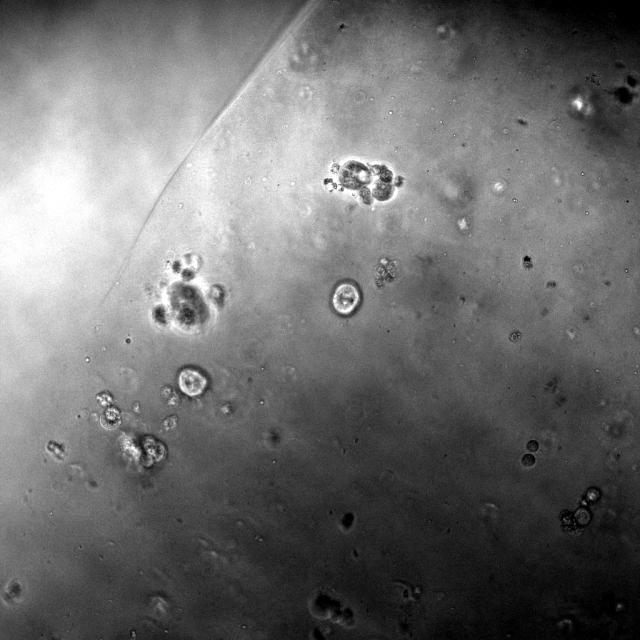organoid: (151, 251, 225, 332), (323, 157, 403, 205), (560, 486, 601, 532), (119, 434, 167, 468), (309, 591, 354, 626), (331, 279, 362, 317), (96, 390, 121, 430), (611, 72, 639, 106), (374, 257, 404, 288), (178, 368, 206, 396), (521, 439, 538, 467), (161, 385, 179, 406), (339, 512, 354, 532), (162, 414, 178, 431), (509, 330, 521, 341)
